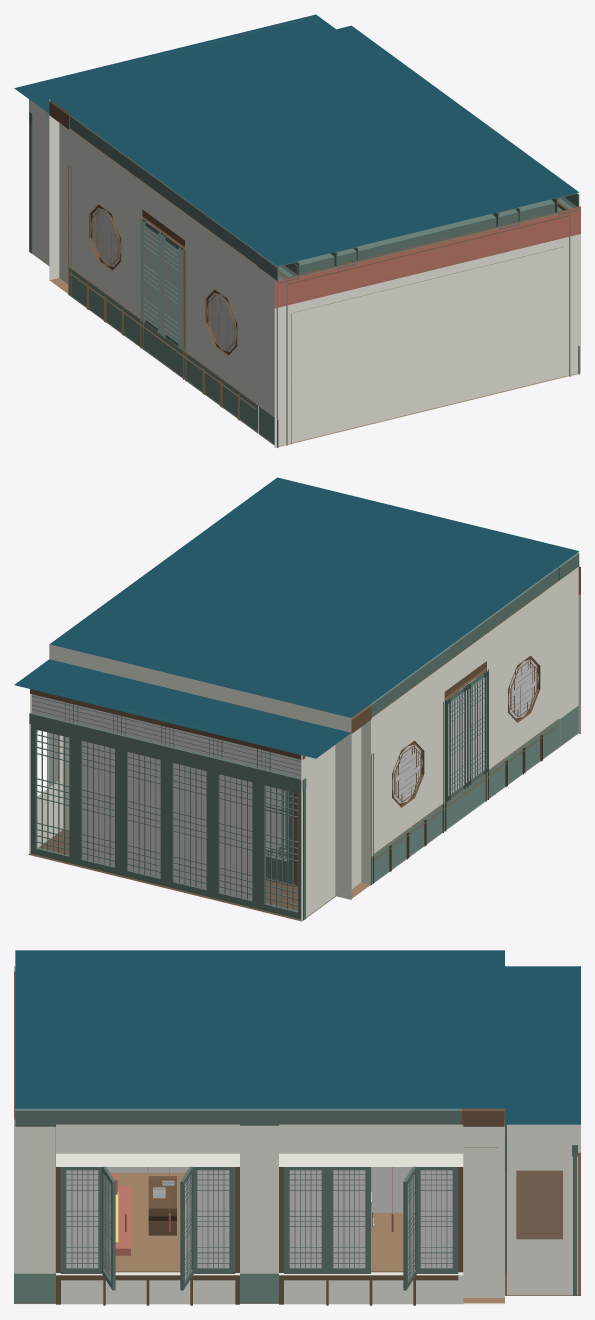
Rendered from KoreanHouseTest.fbx.
3 renders of one model, top to bottom at view 1: azimuth 30°, elevation 25°; view 2: azimuth 150°, elevation 25°; view 3: azimuth 270°, elevation 25°, orthographic. The views are drawn at different scales.
Parts seen in each view (by area): view 1: polySurface169, KoreanHouse_B_Wall, KoreanHouse_R_Wall, KoreanHouse_R_Window, KoreanHouse_R_Paper, pCube91, polySurface167, polySurface152, polySurface149, pCylinder28, polySurface183, KoreanHouse_Floor; view 2: polySurface169, KoreanHouse_R_Wall, KoreanHouse_R_Window, KoreanHouse_R_Paper, polySurface154, polySurface152, polySurface168, group12_polySurface41, group12_polySurface40, polySurface21, polySurface176, polySurface175 (+15 smaller); view 3: polySurface169, polySurface186, polySurface151, polySurface162, polySurface185, KoreanHouse_B_Wall, KoreanHouse_Floor, group11_polySurface20, polySurface150, polySurface27, polySurface188, polySurface29 (+20 smaller).
Part boxes in pixels (x1=…): polySurface169: x1=14, y1=14, x2=578, y2=265; KoreanHouse_B_Wall: x1=258, y1=206, x2=580, y2=447; KoreanHouse_R_Wall: x1=68, y1=128, x2=278, y2=447; KoreanHouse_R_Window: x1=89, y1=204, x2=237, y2=355; KoreanHouse_R_Paper: x1=90, y1=208, x2=236, y2=351; pCube91: x1=294, y1=199, x2=557, y2=276; polySurface167: x1=70, y1=115, x2=299, y2=283; polySurface152: x1=29, y1=99, x2=49, y2=265; polySurface149: x1=49, y1=115, x2=59, y2=281; pCylinder28: x1=278, y1=201, x2=569, y2=443; polySurface183: x1=59, y1=123, x2=68, y2=284; KoreanHouse_Floor: x1=50, y1=278, x2=578, y2=446; polySurface169: x1=14, y1=477, x2=578, y2=758; KoreanHouse_R_Wall: x1=371, y1=566, x2=579, y2=885; KoreanHouse_R_Window: x1=392, y1=655, x2=540, y2=807; KoreanHouse_R_Paper: x1=392, y1=659, x2=538, y2=803; polySurface154: x1=31, y1=694, x2=301, y2=777; polySurface152: x1=301, y1=745, x2=335, y2=920; polySurface168: x1=49, y1=644, x2=351, y2=732; group12_polySurface41: x1=258, y1=779, x2=305, y2=919; group12_polySurface40: x1=29, y1=724, x2=75, y2=864; polySurface21: x1=173, y1=763, x2=206, y2=889; polySurface176: x1=128, y1=752, x2=160, y2=877; polySurface175: x1=219, y1=774, x2=252, y2=900; polySurface169: x1=15, y1=950, x2=580, y2=1124; polySurface186: x1=56, y1=1124, x2=504, y2=1304; polySurface151: x1=507, y1=1124, x2=577, y2=1295; polySurface162: x1=15, y1=1108, x2=461, y2=1126; polySurface185: x1=463, y1=1120, x2=504, y2=1297; KoreanHouse_B_Wall: x1=14, y1=1119, x2=55, y2=1304; KoreanHouse_Floor: x1=15, y1=1167, x2=504, y2=1303; group11_polySurface20: x1=56, y1=1124, x2=462, y2=1305; polySurface150: x1=505, y1=1152, x2=580, y2=1295; polySurface27: x1=420, y1=1170, x2=452, y2=1267; polySurface188: x1=197, y1=1170, x2=229, y2=1267; polySurface29: x1=333, y1=1170, x2=365, y2=1267.
Size of the model in its own units: 562 by 288 by 757.
